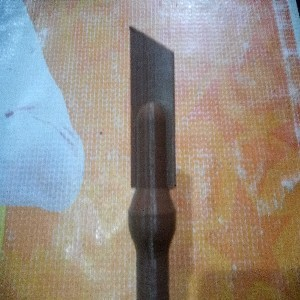cutter: (126, 24, 178, 300)
